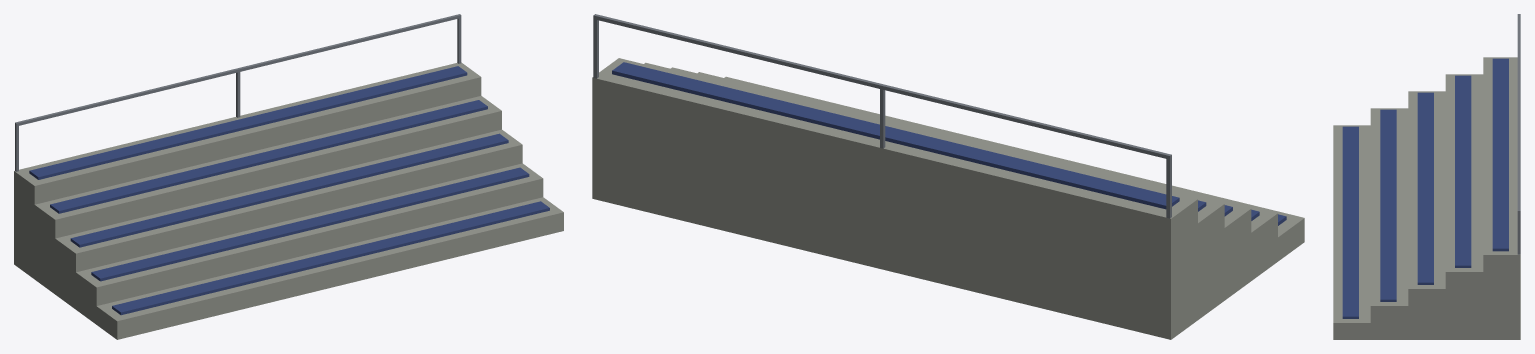
Rendered from site_stand.fbx.
The picture shows the model from 3 angles, left to right: view 1: azimuth 30°, elevation 25°; view 2: azimuth 150°, elevation 25°; view 3: azimuth 270°, elevation 25°; orthographic projection. The views are drawn at different scales.
Visible parts, largest first — view 1: a3008/0/site_stand; view 2: a3008/0/site_stand; view 3: a3008/0/site_stand.
Boxes of the visible parts, bbox=[...] form: a3008/0/site_stand: bbox=[14, 14, 563, 339]; a3008/0/site_stand: bbox=[592, 14, 1304, 339]; a3008/0/site_stand: bbox=[1333, 14, 1520, 339].
Size of the model in its own units: 10 by 3.03 by 4.
